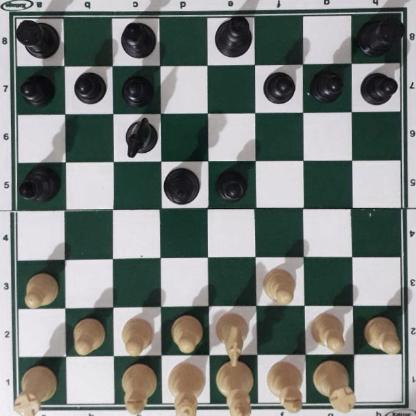black-bishop: (16, 165, 61, 202), (117, 22, 158, 58)
black-king: (212, 14, 253, 55), (162, 166, 199, 204)
black-knight: (123, 116, 156, 155)
black-pawn: (360, 69, 396, 105), (213, 166, 248, 201), (262, 68, 295, 103), (20, 73, 54, 105), (311, 68, 343, 102), (121, 70, 152, 105), (73, 70, 104, 104)
black-rook: (12, 15, 60, 58), (358, 10, 401, 55)
white-bishop: (120, 363, 158, 416), (265, 361, 302, 411)
white-king: (214, 358, 253, 414)
white-knight: (215, 310, 251, 366)
white-pawn: (309, 310, 347, 350), (363, 315, 400, 352), (22, 271, 58, 307), (71, 316, 105, 354), (261, 266, 295, 304), (119, 315, 152, 354), (169, 313, 202, 351)
white-queen: (166, 361, 205, 416)
white-rook: (15, 360, 55, 415), (312, 363, 353, 409)
